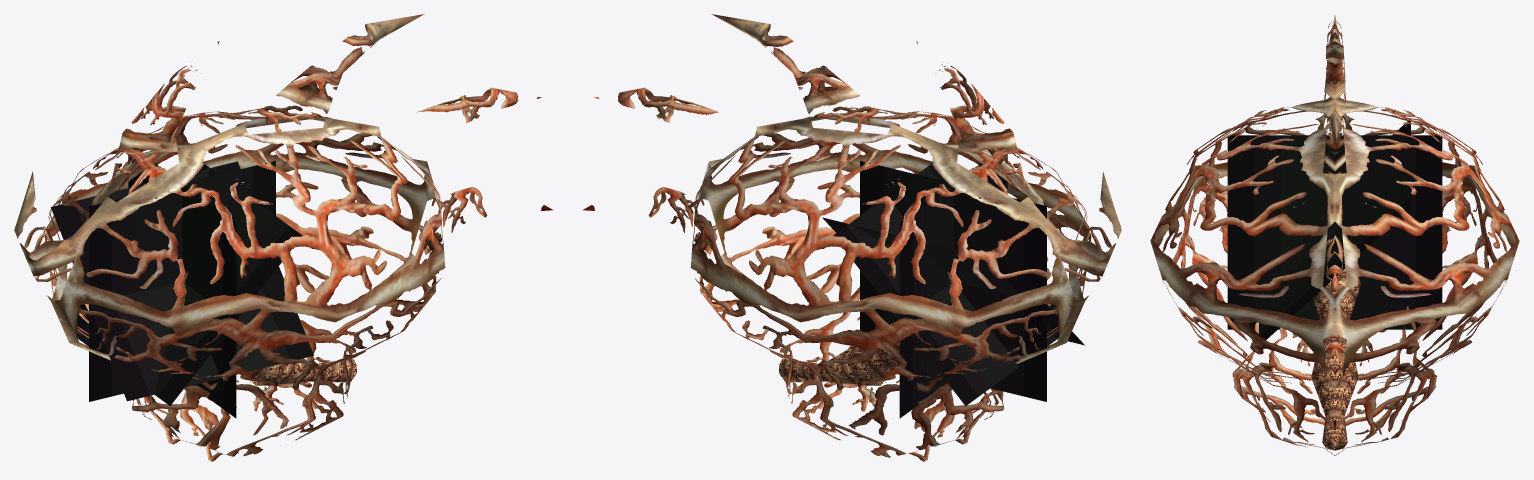
The model's file is bst17a.obj.
3 views of the same model, side by side, from view 1: azimuth 30°, elevation 25°; view 2: azimuth 150°, elevation 25°; view 3: azimuth 270°, elevation 25° (orthographic).
Visible parts, largest first — view 1: BRAIN0, ENERGY0, ESOPH0; view 2: BRAIN0, ENERGY0, ESOPH0; view 3: BRAIN0, ENERGY0, ESOPH0.
Boxes of the visible parts, bbox=[...] form: BRAIN0: bbox=[14, 14, 553, 461]; ENERGY0: bbox=[51, 149, 313, 418]; ESOPH0: bbox=[248, 358, 356, 385]; BRAIN0: bbox=[582, 14, 1121, 461]; ENERGY0: bbox=[822, 155, 1084, 418]; ESOPH0: bbox=[779, 343, 899, 385]; BRAIN0: bbox=[1150, 15, 1519, 455]; ENERGY0: bbox=[1227, 119, 1442, 339]; ESOPH0: bbox=[1311, 238, 1360, 450].
Bounding box in the file's own units: 176 × 136 × 105.
Materials: 3 (3 with a texture image).
